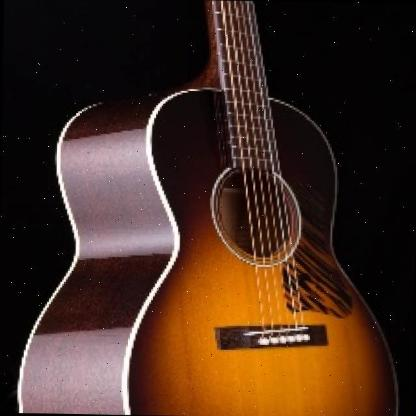acousticguitar: (18, 0, 400, 416)
